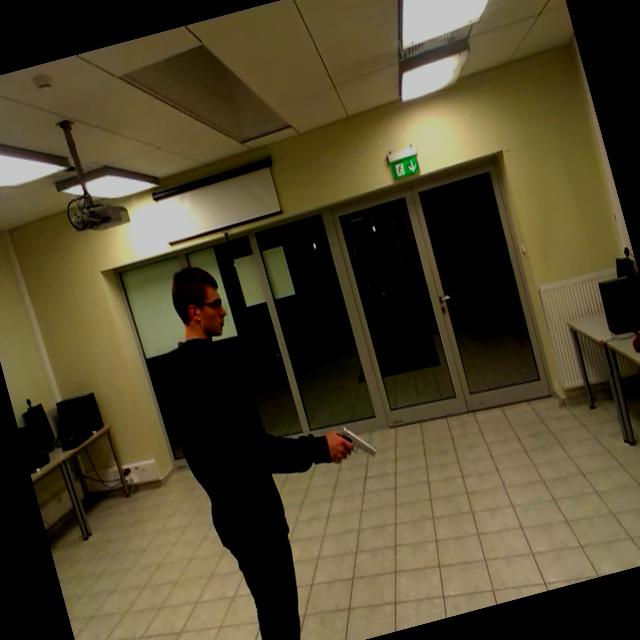handgun: (326, 404, 382, 474)
